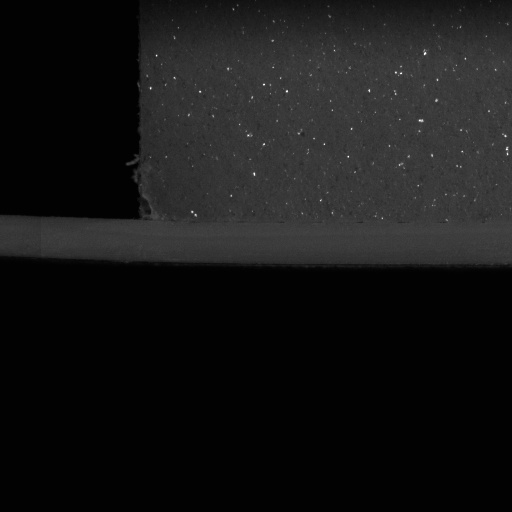bengque: (132, 192, 172, 226)
changdai: (0, 211, 146, 266)
